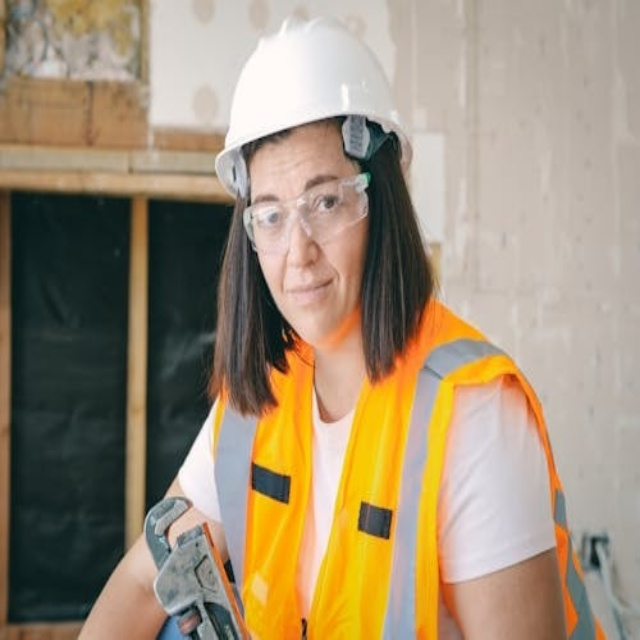Gafas: (234, 157, 381, 256)
Sin_mascara: (268, 263, 351, 317)
